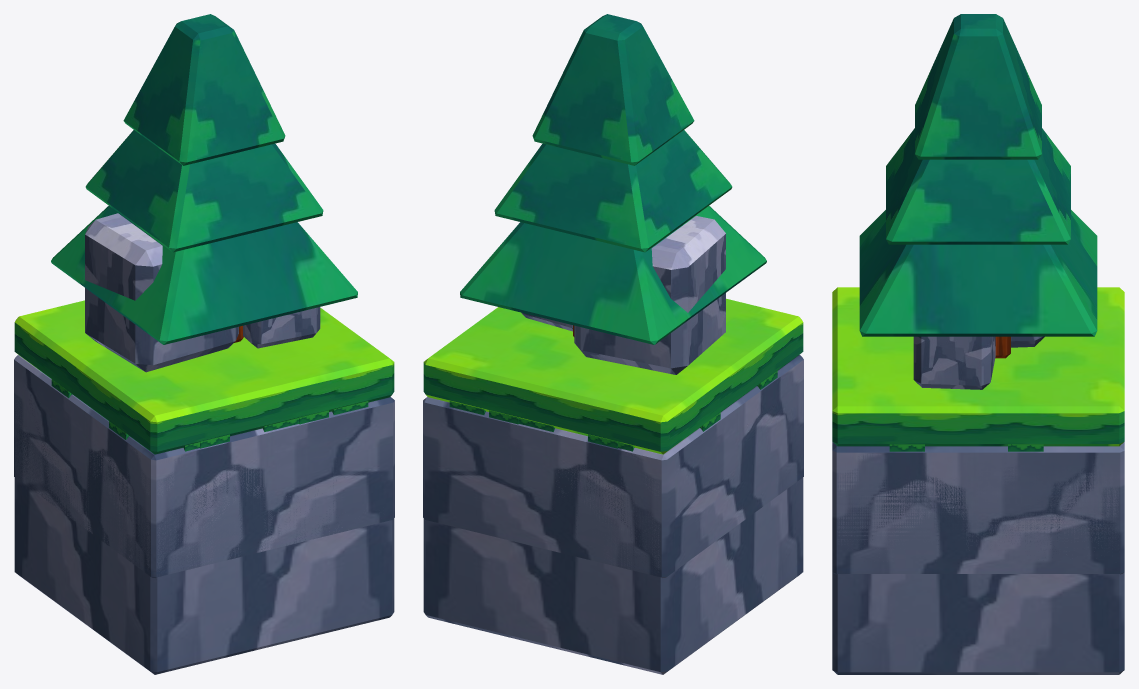
Rendered from mountains.glb.
The picture shows the model from 3 angles, left to right: view 1: azimuth 30°, elevation 25°; view 2: azimuth 150°, elevation 25°; view 3: azimuth 270°, elevation 25°; orthographic projection. The views are drawn at different scales.
Visible parts, largest first — view 1: ground, plant, edge, rocks; view 2: ground, plant, edge, rocks; view 3: ground, plant, edge, rocks.
Part boxes in pixels (box(x1,y1,x2,y2)): ground: box(14, 300, 394, 577); plant: box(51, 14, 357, 344); edge: box(14, 362, 394, 674); rocks: box(85, 213, 320, 372); ground: box(423, 298, 803, 577); plant: box(460, 14, 766, 344); edge: box(423, 362, 803, 674); rocks: box(521, 216, 725, 374); ground: box(832, 287, 1124, 574); plant: box(859, 14, 1097, 358); edge: box(832, 453, 1124, 674); rocks: box(913, 336, 1044, 389).
Size of the model in its own units: 0.985 by 2.21 by 0.985.
1 material, 1 textured.
